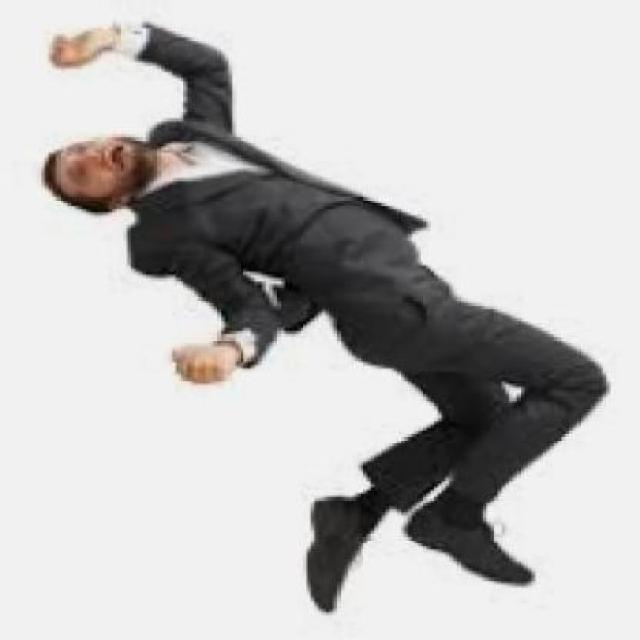fall: (32, 17, 596, 625)
